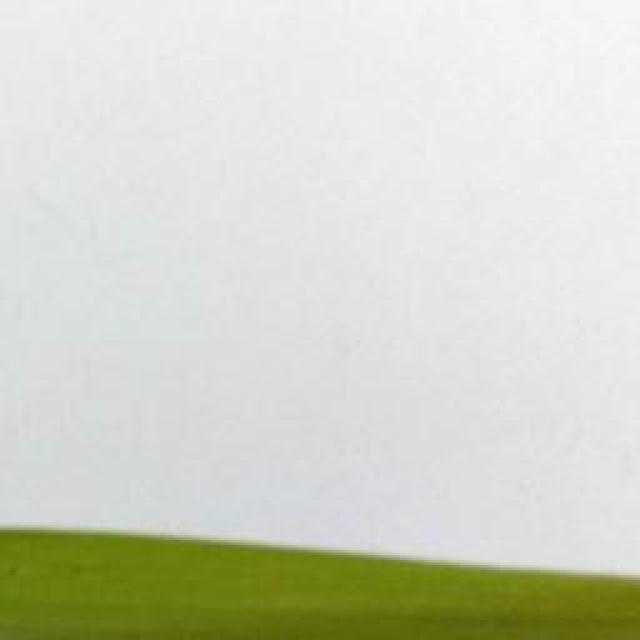Healthy-Plant: (0, 529, 640, 640)
